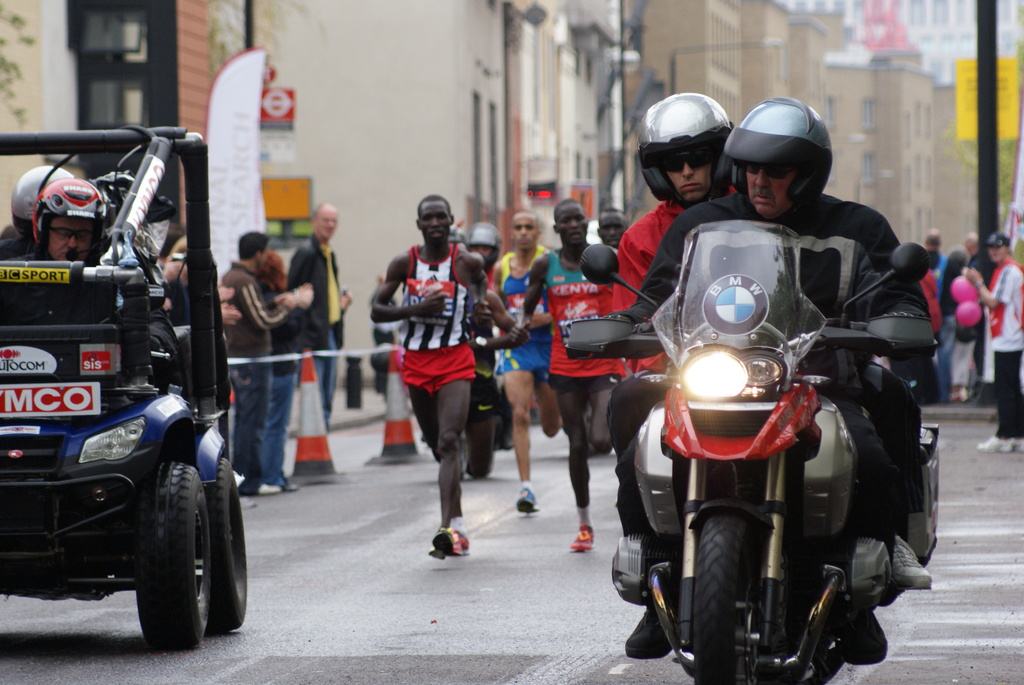cars: (9, 142, 241, 629)
